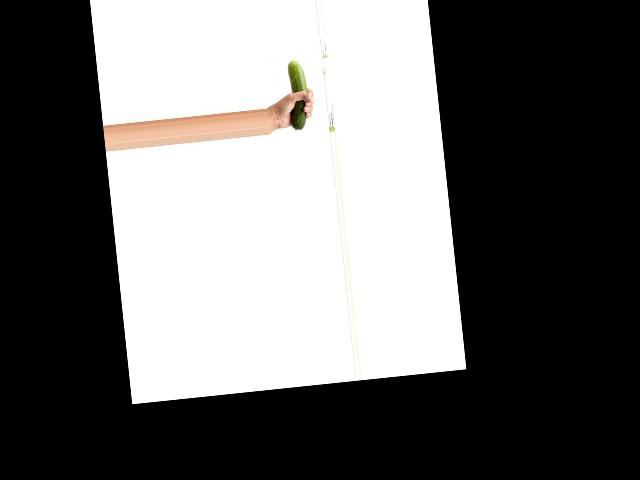cucumber: (285, 59, 311, 129)
